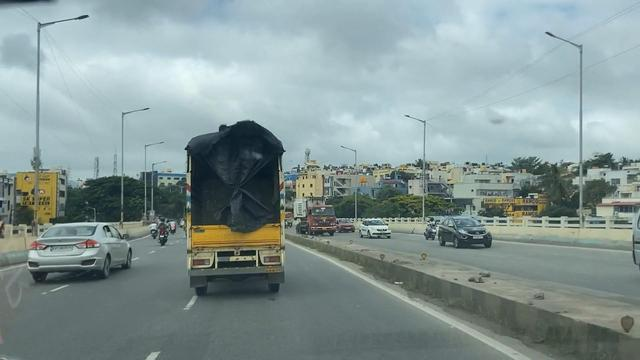HMV: (182, 114, 292, 302), (296, 196, 343, 248)
